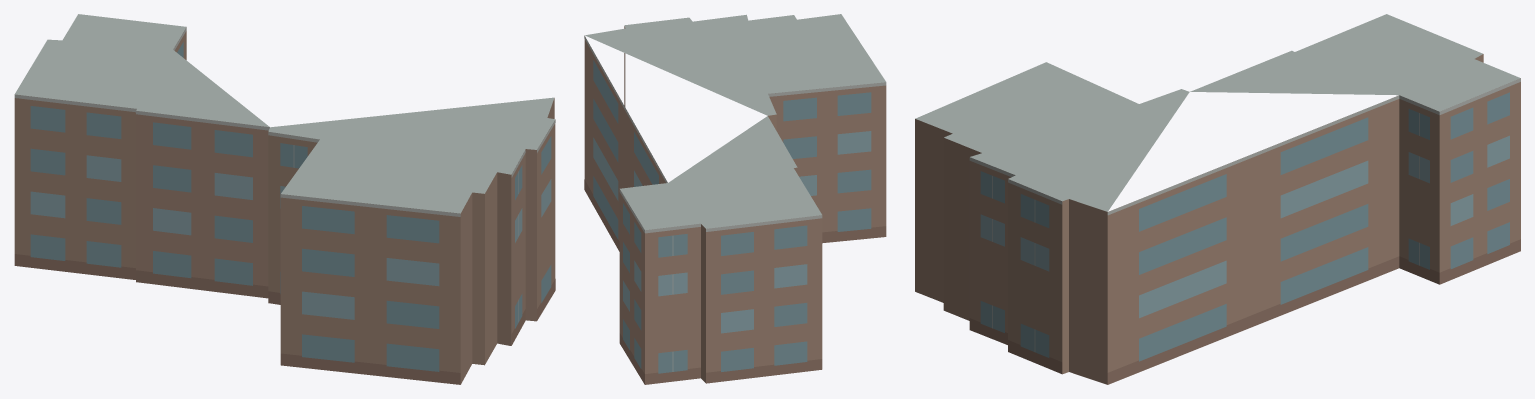
The model's file is survey-upis-32587783.glb.
The picture shows the model from 3 angles, left to right: view 1: azimuth 30°, elevation 25°; view 2: azimuth 150°, elevation 25°; view 3: azimuth 270°, elevation 25°; orthographic projection. The views are drawn at different scales.
Visible parts, largest first — view 1: survey-upis-32587783.tmp; view 2: survey-upis-32587783.tmp; view 3: survey-upis-32587783.tmp.
Boxes of the visible parts, <box> form: survey-upis-32587783.tmp: <box>14,14,555,384</box>; survey-upis-32587783.tmp: <box>584,14,886,384</box>; survey-upis-32587783.tmp: <box>915,14,1520,384</box>.
Size of the model in its own units: 29.08 by 11.85 by 37.61.
